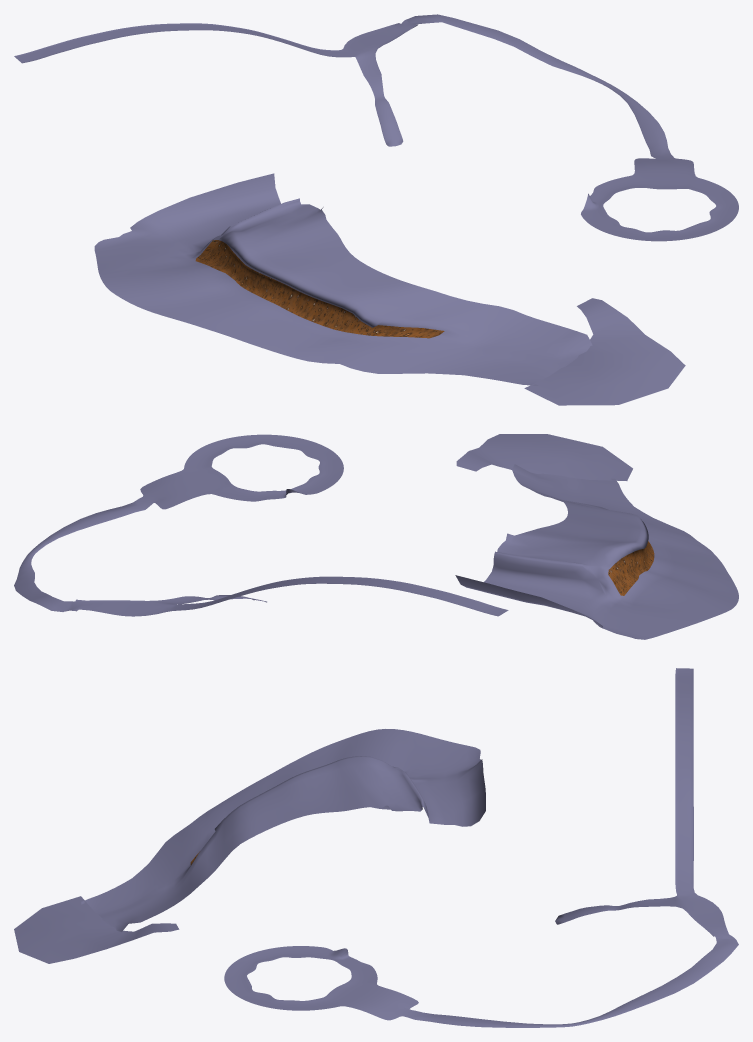
Rendered from CollisionFloorsMine.fbx.
The picture shows the model from 3 angles, top to bottom: view 1: azimuth 30°, elevation 25°; view 2: azimuth 150°, elevation 25°; view 3: azimuth 270°, elevation 25°; orthographic projection. The views are drawn at different scales.
Visible parts, largest first — view 1: Colis.001, Colis, Collis.001; view 2: Colis.001, Colis, Collis.001; view 3: Colis.001, Colis, Collis.001.
Part boxes in pixels (left/top/right/bottom): Colis.001: left=94, top=173, right=592, bottom=385; Colis: left=14, top=14, right=738, bottom=241; Collis.001: left=524, top=298, right=685, bottom=405; Colis.001: left=455, top=464, right=738, bottom=639; Colis: left=14, top=434, right=508, bottom=616; Collis.001: left=456, top=434, right=632, bottom=480; Colis.001: left=81, top=729, right=485, bottom=931; Colis: left=224, top=668, right=738, bottom=1027; Collis.001: left=14, top=896, right=179, bottom=963.
Size of the model in its own units: 32571 by 7867 by 35249.
